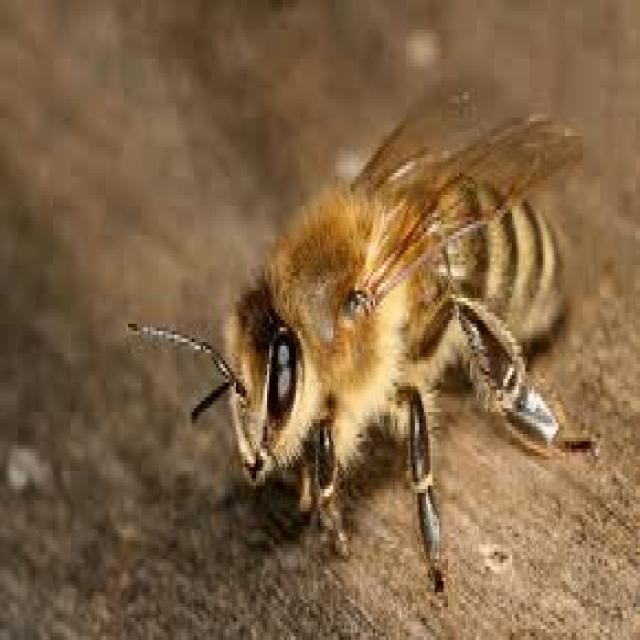Bees: (125, 79, 596, 600)
